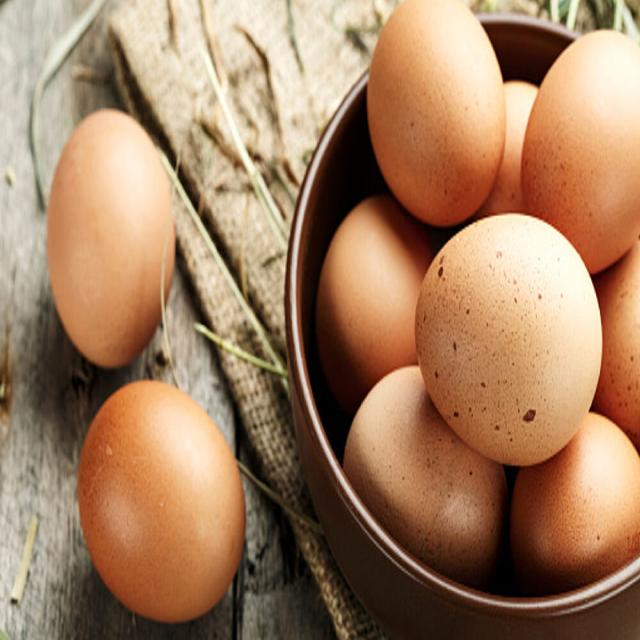Egg: (407, 208, 607, 466), (72, 377, 249, 626), (47, 105, 177, 370), (516, 28, 640, 295), (366, 0, 507, 227)
